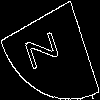Z: (24, 25, 66, 72)
